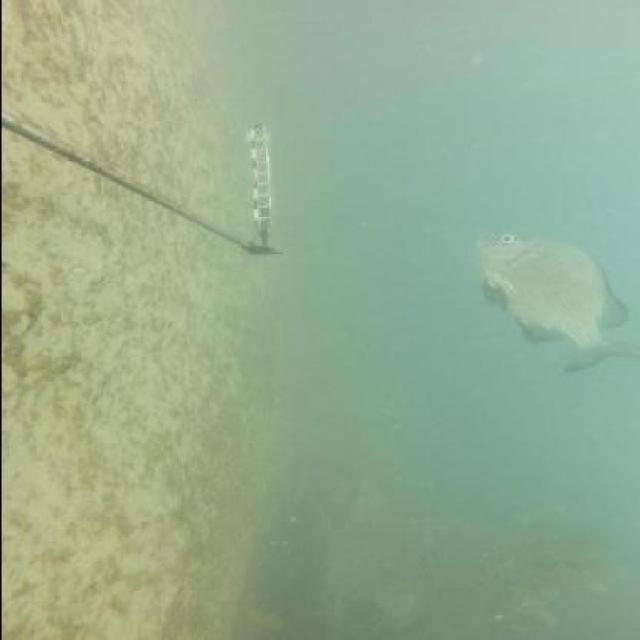acanthopagrus_palmaris: (465, 229, 637, 374)
